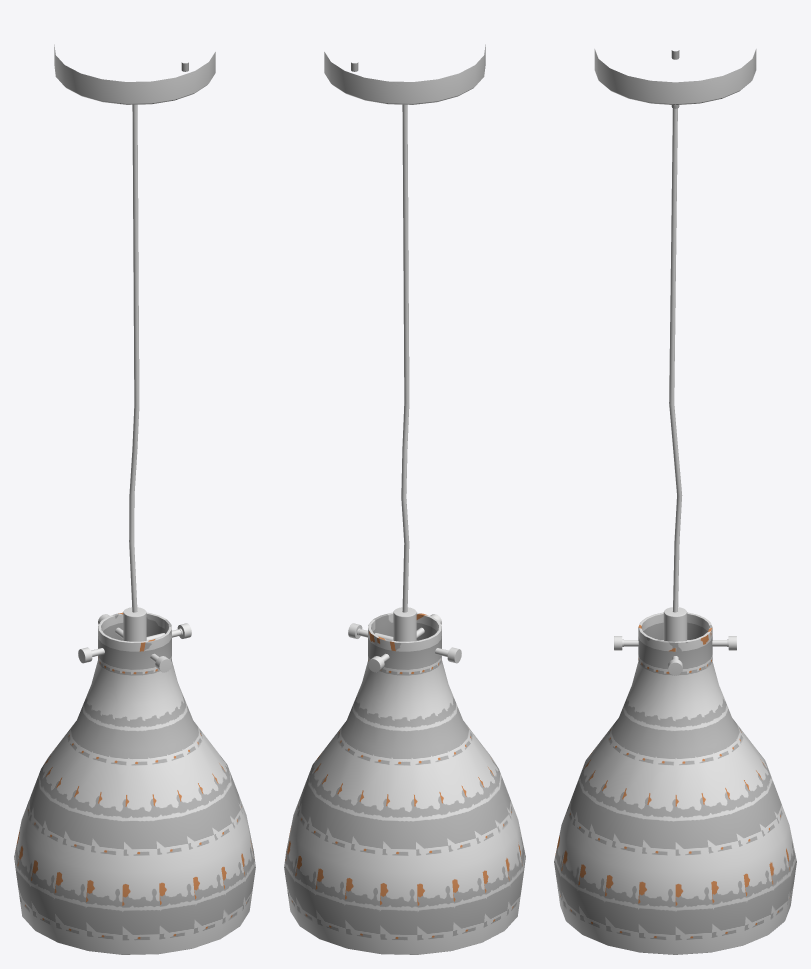
Rendered from B0725NGTKK.glb.
The picture shows the model from 3 angles, left to right: view 1: azimuth 30°, elevation 25°; view 2: azimuth 150°, elevation 25°; view 3: azimuth 270°, elevation 25°; orthographic projection.
Parts seen in each view (by area): view 1: "$AHGHFNJKCICAAAAAICBAAAAAAAAALGGGODON"; view 2: "$AHGHFNJKCICAAAAAICBAAAAAAAAALGGGODON"; view 3: "$AHGHFNJKCICAAAAAICBAAAAAAAAALGGGODON".
Boxes of the visible parts, <box> form: "$AHGHFNJKCICAAAAAICBAAAAAAAAALGGGODON": <box>14,44,255,954</box>; "$AHGHFNJKCICAAAAAICBAAAAAAAAALGGGODON": <box>284,44,525,954</box>; "$AHGHFNJKCICAAAAAICBAAAAAAAAALGGGODON": <box>554,49,796,954</box>.
Bounding box in the file's own units: 0.3739 × 1.46 × 0.3739.
1 material, 1 textured.
